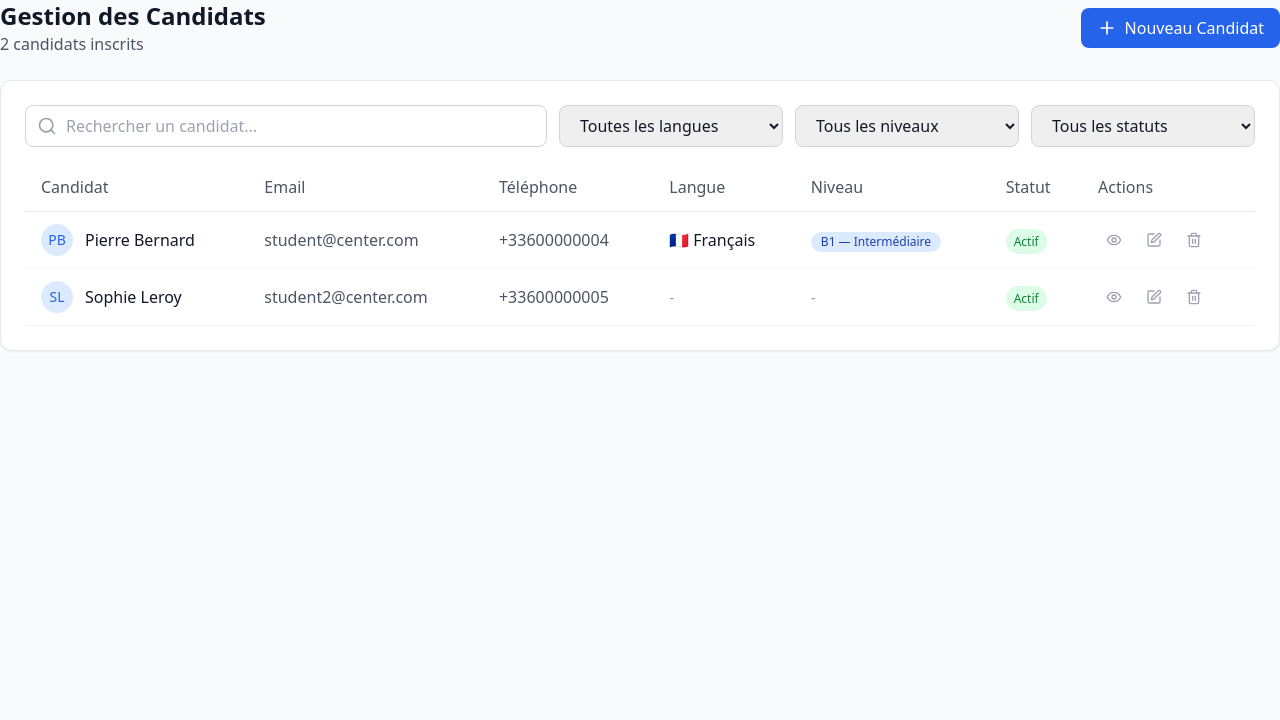
Test case: Students page › opens the fiche with progression, test, skills and group
Step 1. Click the button named "Voir Pierre Bernard" → (1114,240), box left=1098, top=224, right=1130, bottom=256
(page scrolled)
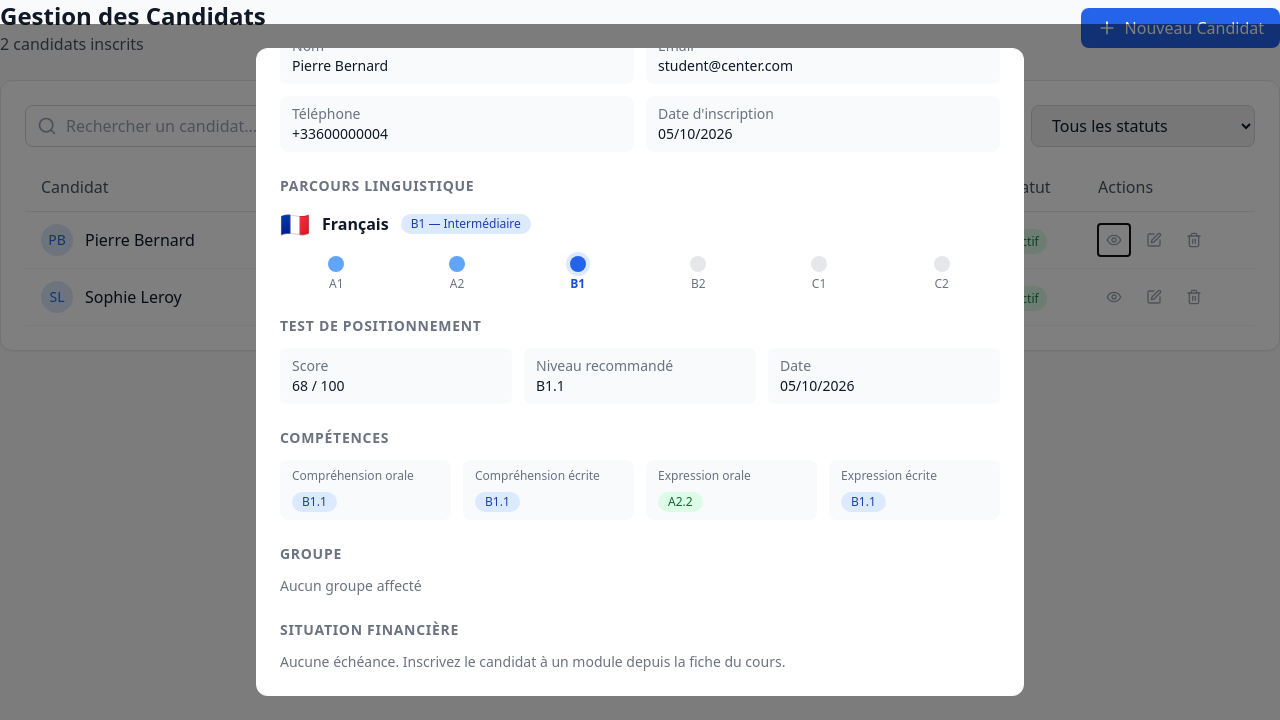
expect the heading "Parcours linguistique" is shown: met, box left=280, top=176, right=474, bottom=195
expect the heading "Test de positionnement" is shown: met, box left=280, top=316, right=482, bottom=335
expect the text "68 / 100" is shown: met, box left=292, top=376, right=344, bottom=395
